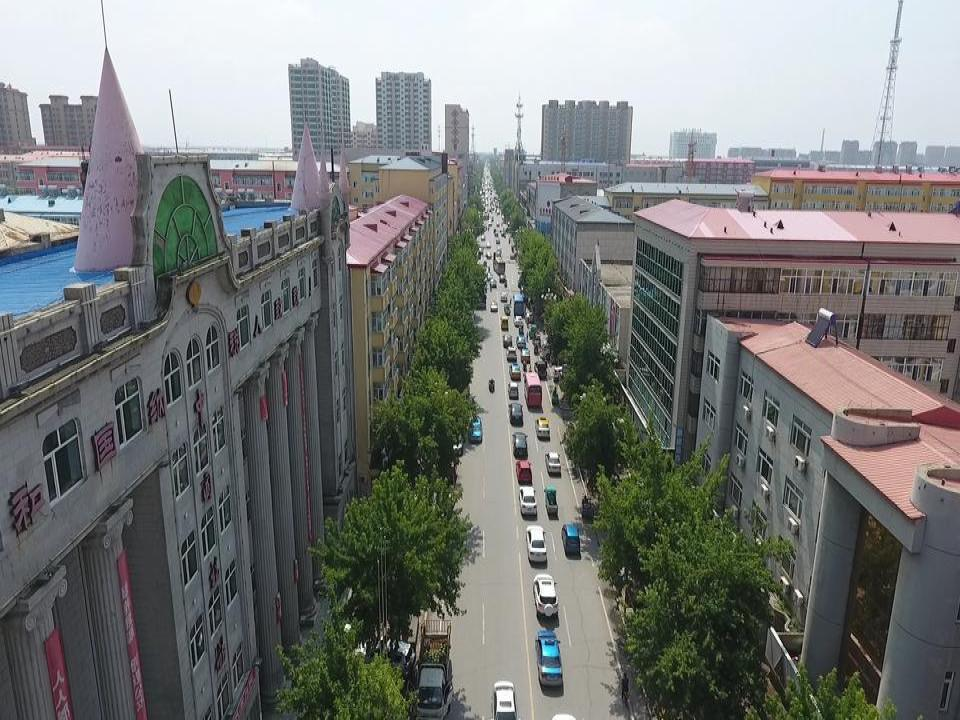bus: (522, 371, 542, 408)
car: (350, 637, 415, 675), (534, 628, 564, 692), (530, 573, 559, 623), (490, 680, 518, 720), (560, 521, 583, 560), (525, 524, 547, 564), (516, 484, 539, 519), (510, 431, 529, 460), (543, 451, 563, 477), (514, 460, 533, 485), (507, 400, 524, 427), (468, 414, 484, 442), (535, 415, 551, 441), (536, 359, 549, 380), (507, 362, 520, 382), (502, 331, 513, 348), (515, 333, 528, 347), (506, 344, 517, 360), (499, 314, 510, 330), (489, 299, 498, 312), (513, 314, 522, 326), (498, 291, 508, 301)
truck: (416, 616, 455, 720)
van: (507, 380, 519, 399)
